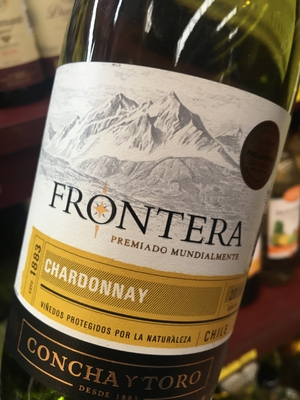frontera chardonnay: (1, 11, 300, 396)
